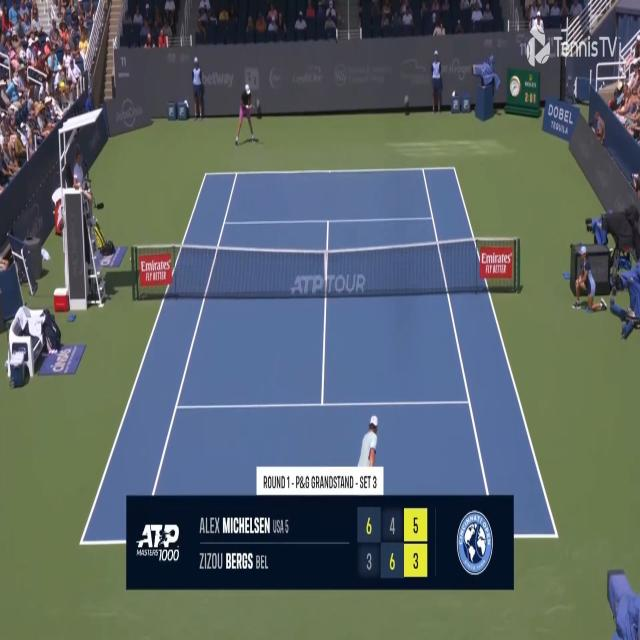tennis-player: (356, 412, 384, 492), (235, 83, 260, 147)
